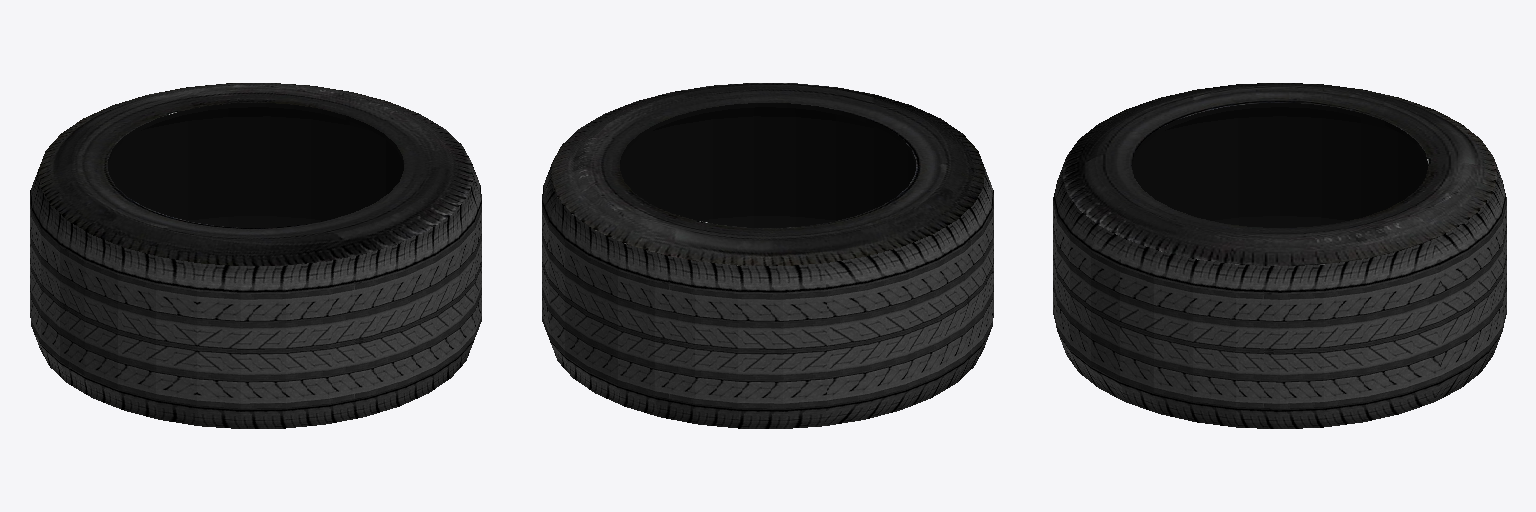
The picture shows the model from 3 angles: view 1: azimuth 30°, elevation 25°; view 2: azimuth 150°, elevation 25°; view 3: azimuth 270°, elevation 25°; orthographic projection.
Visible parts, largest first — view 1: Cylinder; view 2: Cylinder; view 3: Cylinder.
Boxes of the visible parts, x1=… form: Cylinder: x1=30, y1=83, x2=481, y2=428; Cylinder: x1=542, y1=83, x2=993, y2=428; Cylinder: x1=1053, y1=83, x2=1506, y2=428.
Bounding box in the file's own units: 2 × 0.9042 × 2.
Materials: 1 (1 with a texture image).